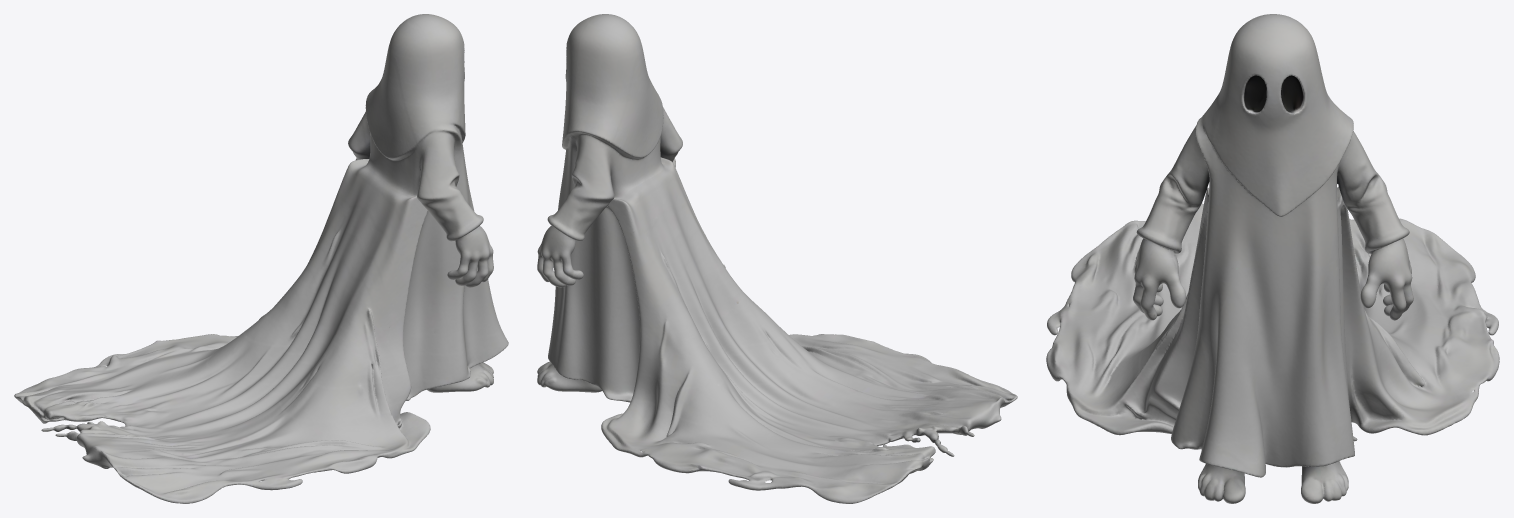
Rendered from detailed_realistic_model_ghostly_01.glb.
3 renders of one model, left to right at view 1: azimuth 30°, elevation 25°; view 2: azimuth 150°, elevation 25°; view 3: azimuth 270°, elevation 25°, orthographic. The views are drawn at different scales.
Parts seen in each view (by area): view 1: tripo_node_91c04919-cea0-49db-bc9d-0346fa54fe35; view 2: tripo_node_91c04919-cea0-49db-bc9d-0346fa54fe35; view 3: tripo_node_91c04919-cea0-49db-bc9d-0346fa54fe35.
Boxes of the visible parts, left/top/right/bottom form: tripo_node_91c04919-cea0-49db-bc9d-0346fa54fe35: left=14, top=14, right=508, bottom=503; tripo_node_91c04919-cea0-49db-bc9d-0346fa54fe35: left=537, top=14, right=1017, bottom=503; tripo_node_91c04919-cea0-49db-bc9d-0346fa54fe35: left=1046, top=14, right=1499, bottom=503.
Size of the model in its own units: 1 by 0.7983 by 0.7172.
1 material, 1 textured.
